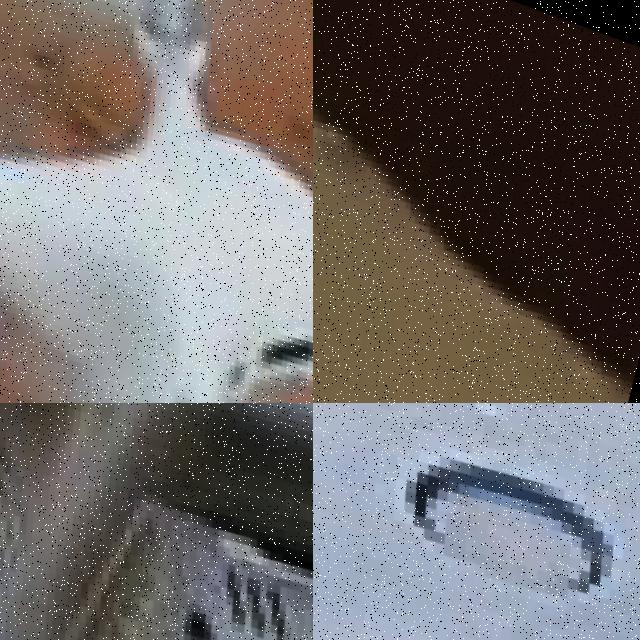drone: (313, 0, 640, 403), (0, 0, 313, 403), (313, 403, 640, 640), (0, 403, 313, 640)
